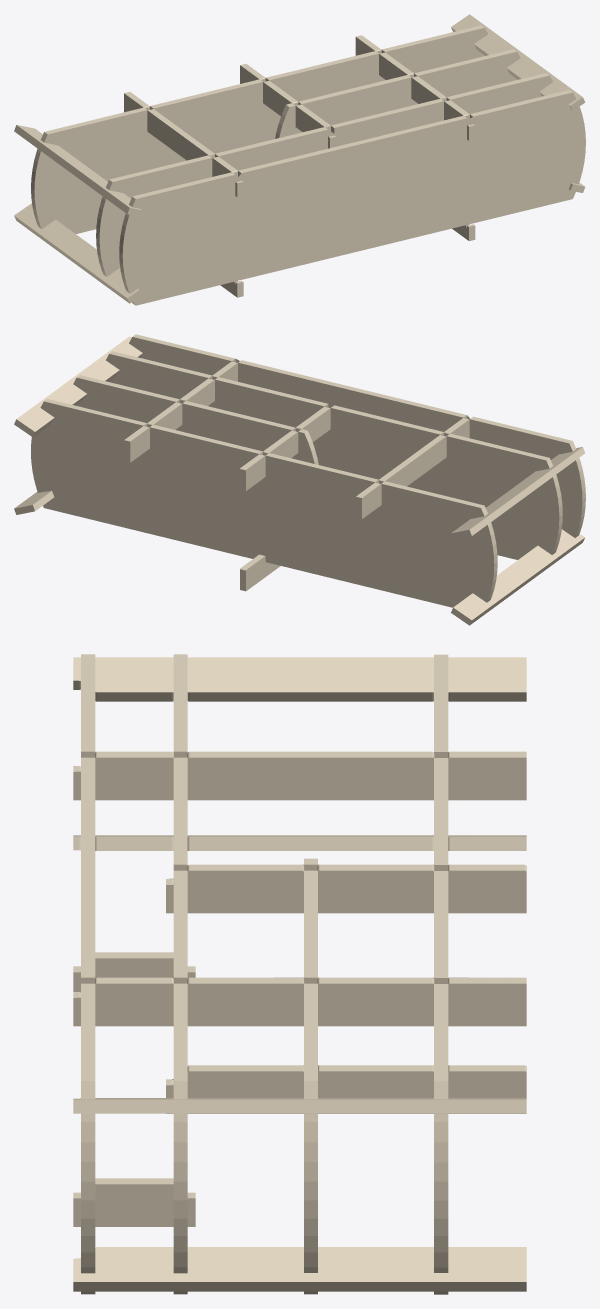
File: RACK_NODO_FINAL_BASE_LIMPIA_V11.glb
The picture shows the model from 3 angles, top to bottom: view 1: azimuth 30°, elevation 25°; view 2: azimuth 150°, elevation 25°; view 3: azimuth 270°, elevation 25°; orthographic projection. The views are drawn at different scales.
Parts seen in each view (by area): view 1: A, C, B, D, F_left_front, F_rear, G_right_rear, G_rear, F_left_rear, H_rear; view 2: C, B, A, D, F_left_front, F_rear, G_right_rear, G_rear, F_left_rear, H_rear, H_front, G_right_front; view 3: F_rear, G_rear, G_right_front, F_left_rear, H_rear, H_front, A, C, B, G_right_rear, F_left_front, D (+2 smaller).
Part boxes in pixels (x1,y1,x2,y2): A: [119, 90, 585, 305]; C: [31, 25, 487, 233]; B: [96, 73, 552, 276]; D: [275, 49, 520, 138]; F_left_front: [14, 203, 141, 303]; F_rear: [124, 92, 243, 197]; G_right_rear: [451, 14, 585, 110]; G_rear: [355, 35, 475, 140]; F_left_rear: [14, 125, 141, 216]; H_rear: [240, 63, 336, 148]; C: [31, 399, 497, 607]; B: [106, 351, 562, 559]; A: [129, 334, 585, 537]; D: [73, 375, 318, 464]; F_left_front: [451, 529, 584, 625]; F_rear: [355, 418, 469, 519]; G_right_rear: [14, 336, 142, 437]; G_rear: [124, 361, 237, 462]; F_left_rear: [451, 447, 584, 539]; H_rear: [240, 406, 330, 490]; H_front: [240, 554, 280, 591]; G_right_front: [14, 490, 54, 514]; F_rear: [73, 751, 526, 800]; G_rear: [73, 977, 526, 1026]; G_right_front: [73, 1247, 526, 1291]; F_left_rear: [73, 657, 526, 701]; H_rear: [166, 864, 526, 913]; H_front: [166, 1065, 526, 1113]; A: [81, 654, 95, 1294]; C: [434, 654, 448, 1294]; B: [173, 654, 187, 1294]; G_right_rear: [73, 1098, 526, 1113]; F_left_front: [73, 835, 526, 850]; D: [304, 858, 317, 1294].
Size of the model in its own units: 1.36 by 0.342 by 0.578.
